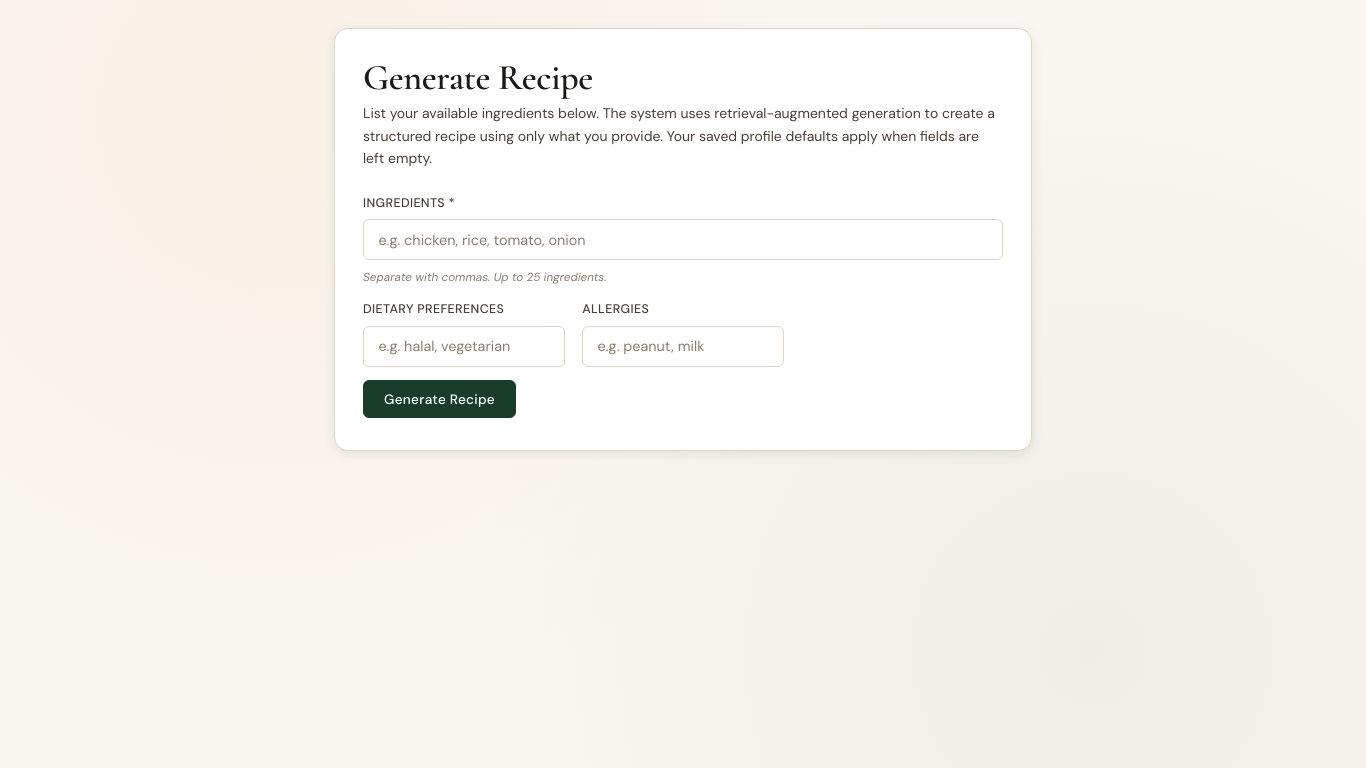
Test case: GenerateRecipePage › uses saved profile defaults when optional fields are left blank
Type "tomato, basil, pasta" into the field labelled "Ingredients *" at coordinates (683, 240), box left=363, top=219, right=1003, bottom=260
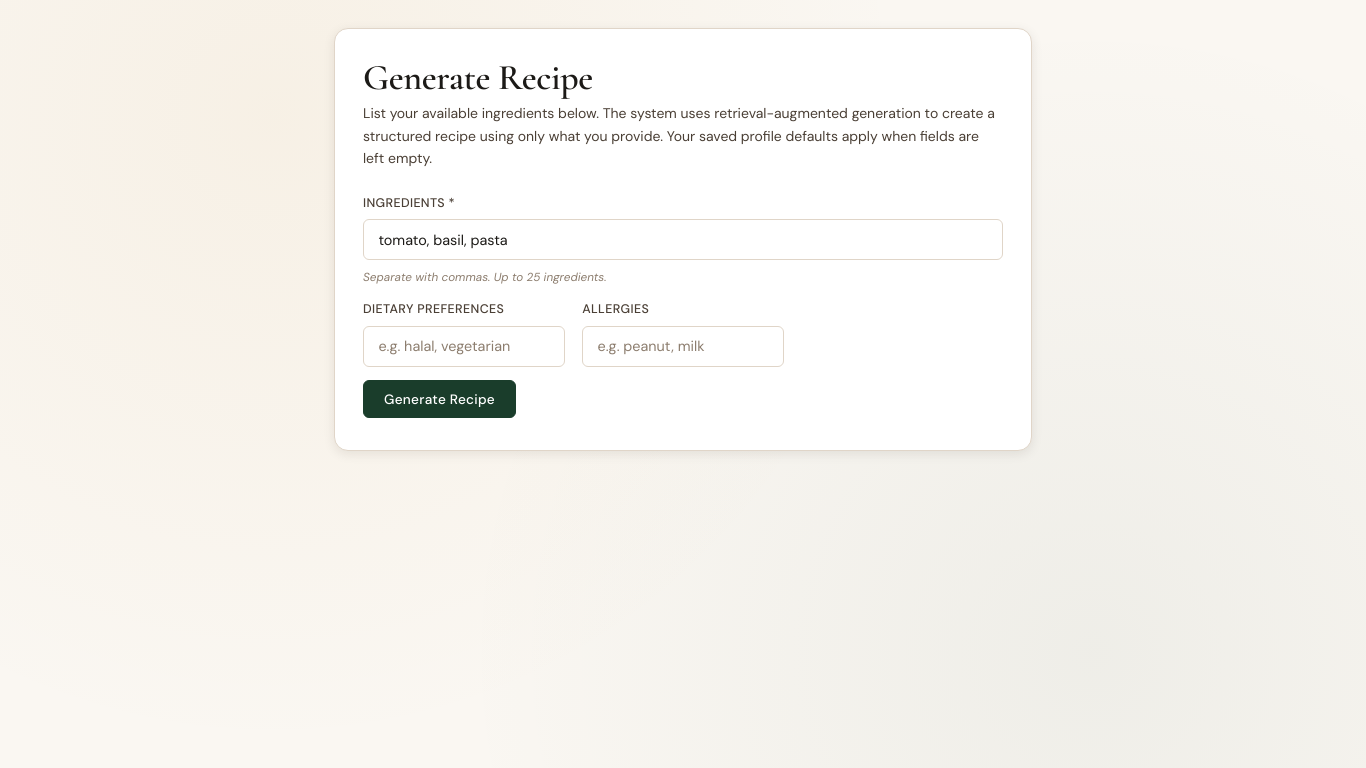
Click the button "Generate Recipe" at coordinates (440, 399), box left=363, top=380, right=516, bottom=418
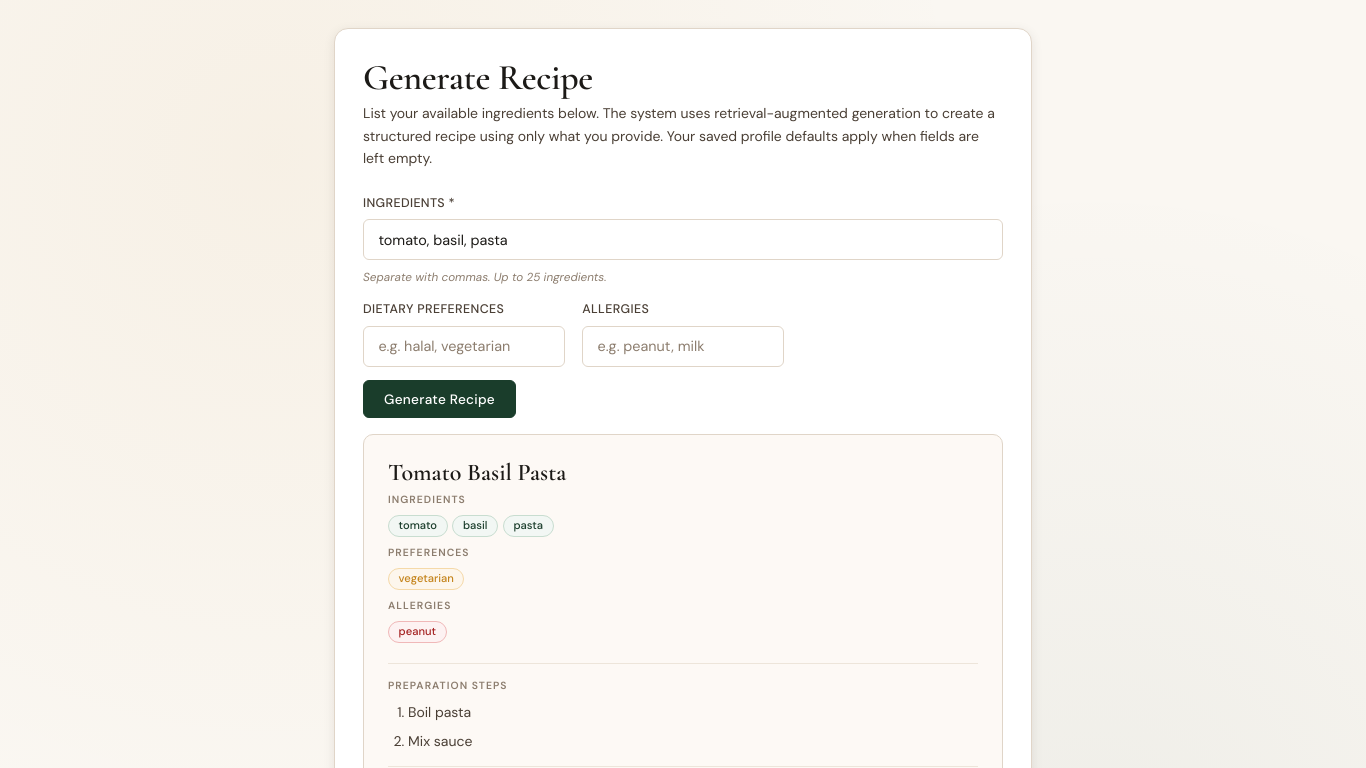
Expected: the heading "Tomato Basil Pasta" is shown, left=388, top=459, right=566, bottom=488
